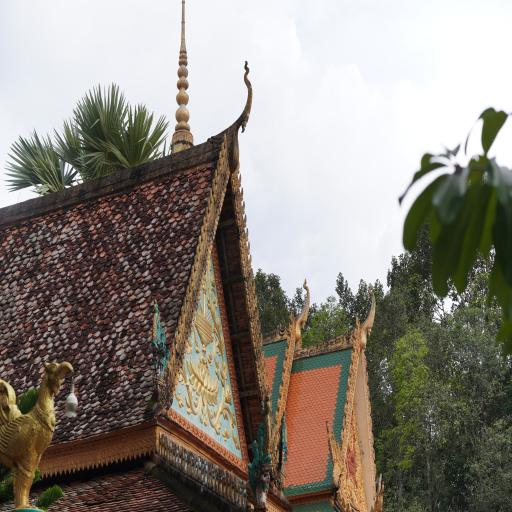lua: (223, 54, 262, 170), (357, 282, 379, 353), (293, 276, 314, 342)
ran: (244, 386, 278, 510), (147, 300, 172, 388), (323, 417, 346, 493), (275, 406, 294, 485), (370, 473, 393, 512)
than: (0, 345, 83, 512)
